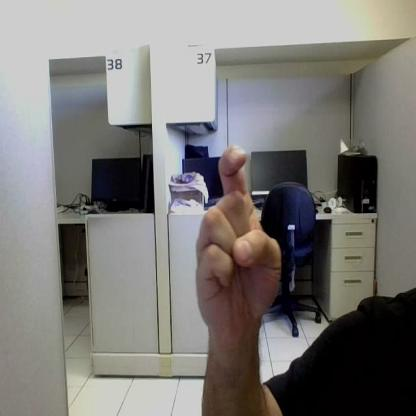X: (196, 146, 280, 326)
